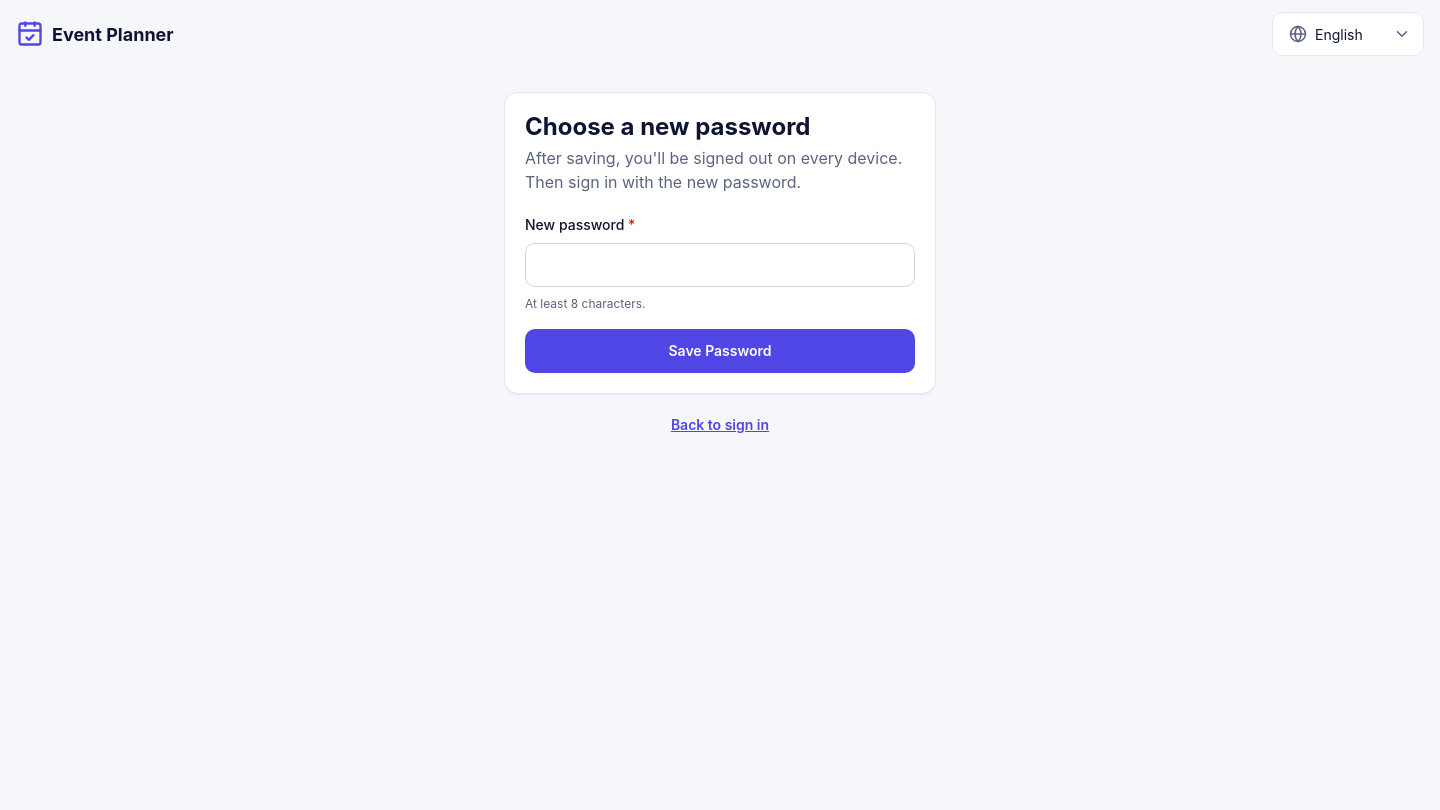
Test: forgot and reset password › sets a new password from the link and continues to Sign In
The width and height of the screenshot is (1440, 810).
expect the heading "Choose a new password" is shown: met, box [525,112,810,141]
In the password field labelled "New password *": point(720, 265) [525,243,915,287], type "short"
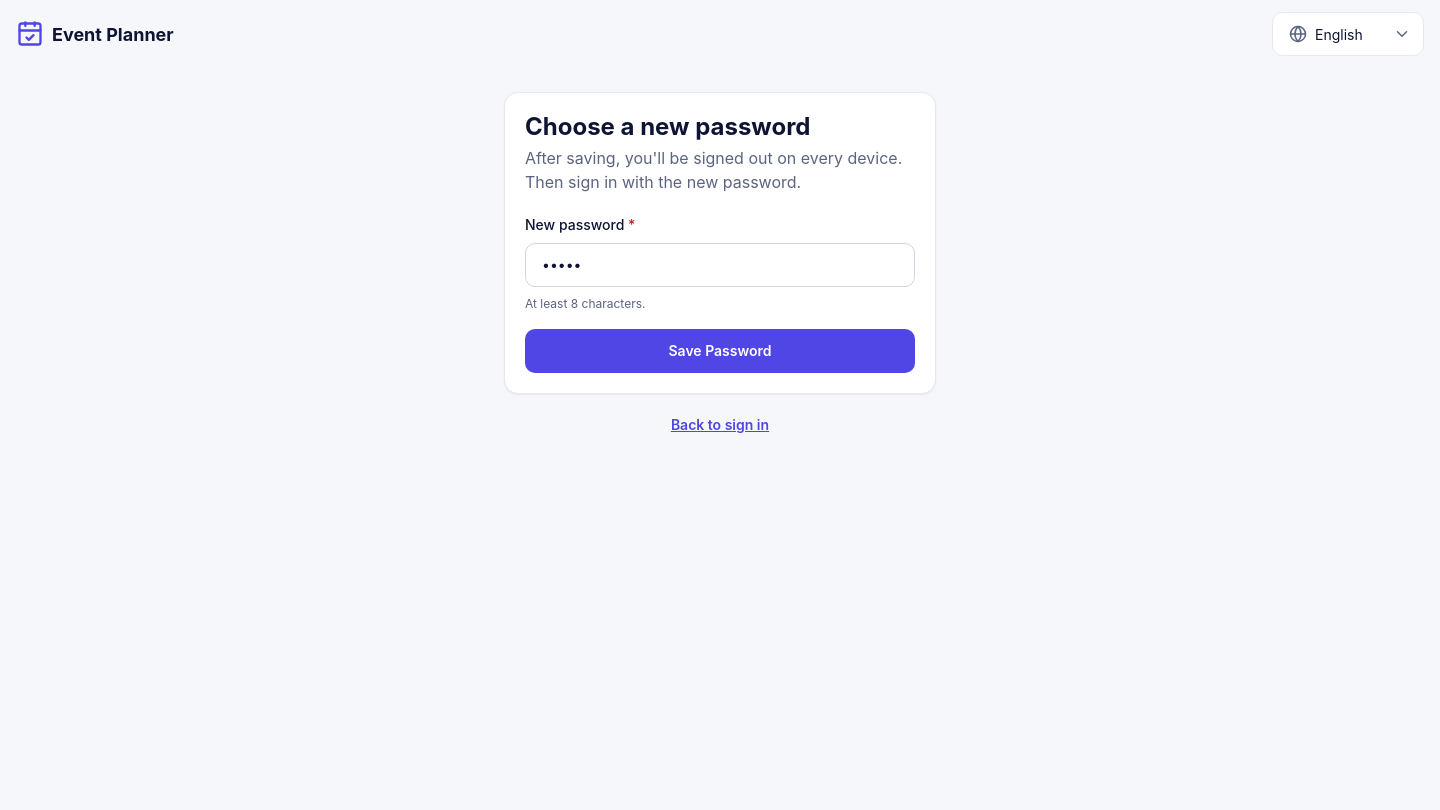
Click the button "Save Password": point(720, 351) [525,329,915,373]
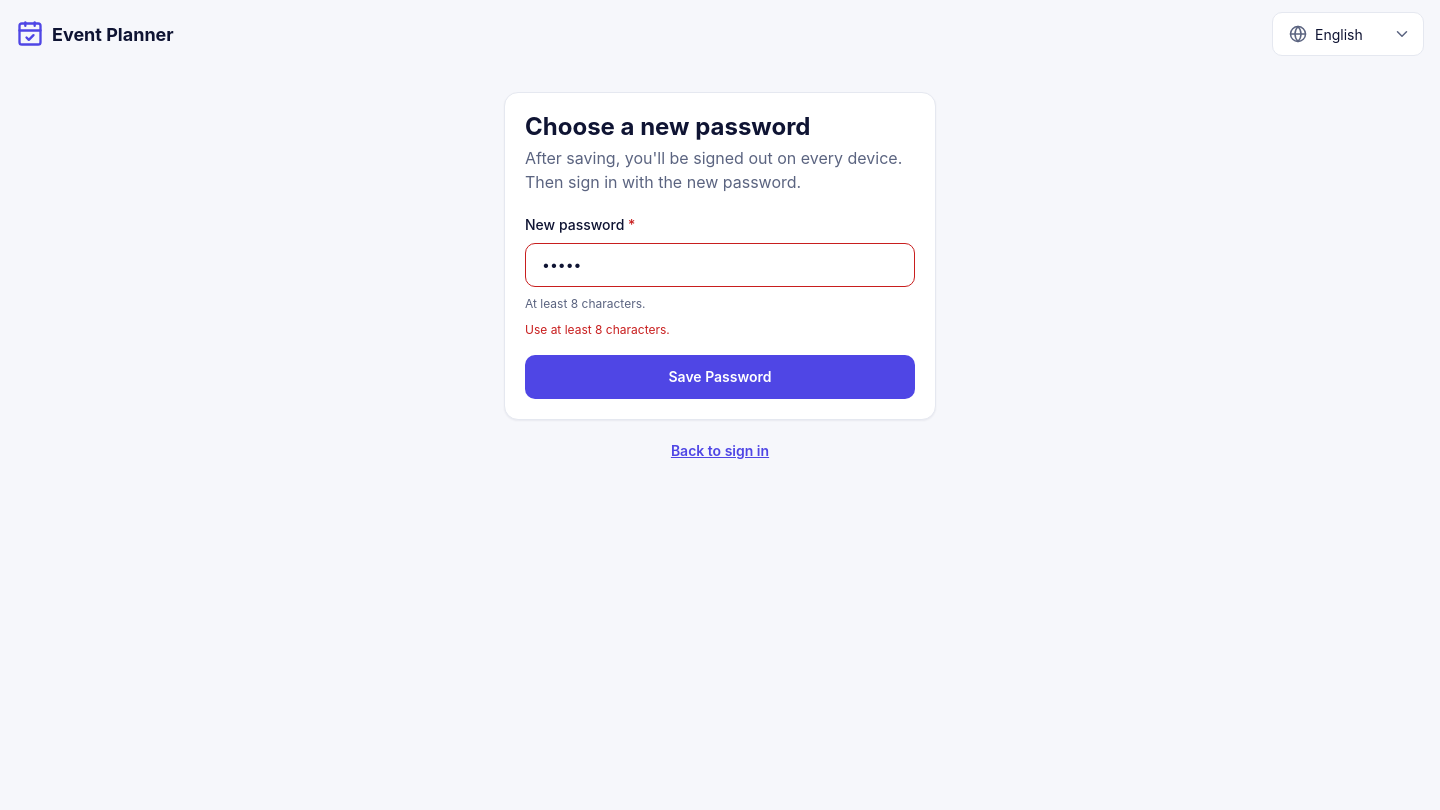
expect the text "Use at least 8 characters." is shown: met, box [525,322,670,337]
In the password field labelled "New password *": point(720, 265) [525,243,915,287], type "battery-staple"
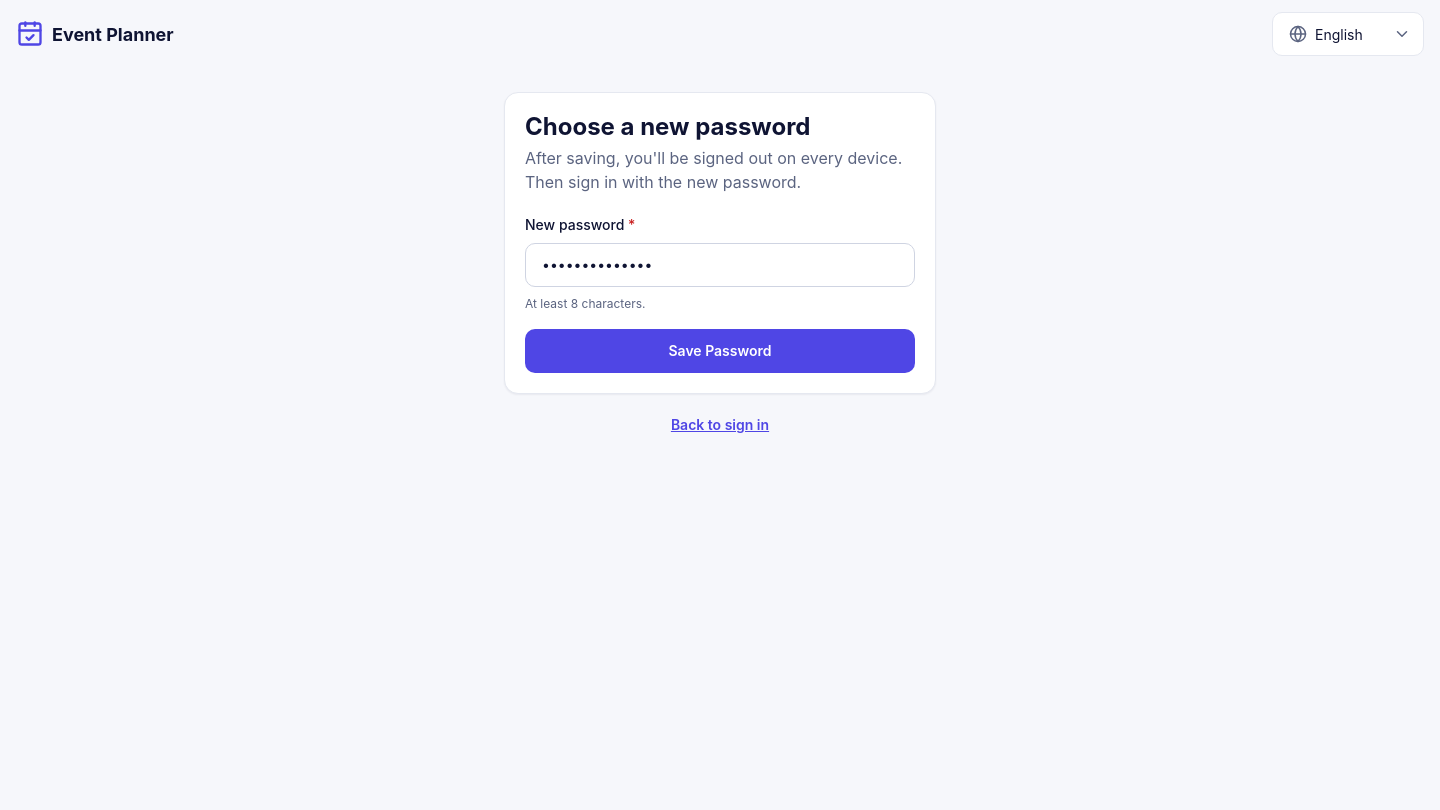
Click the button "Save Password": point(720, 351) [525,329,915,373]
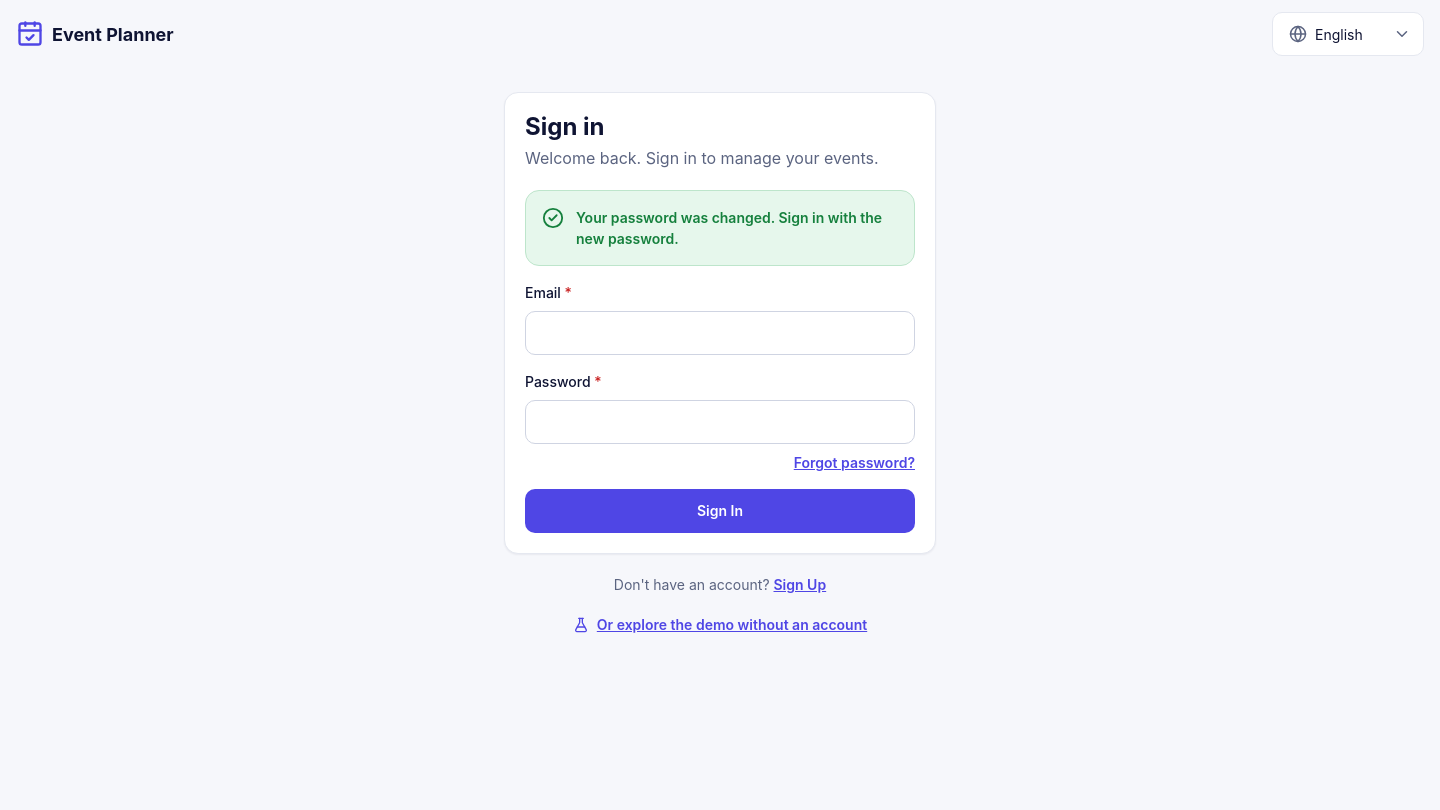
expect the text "Your password was changed. Sign in with the new password." is shown: met, box [576,207,898,249]
